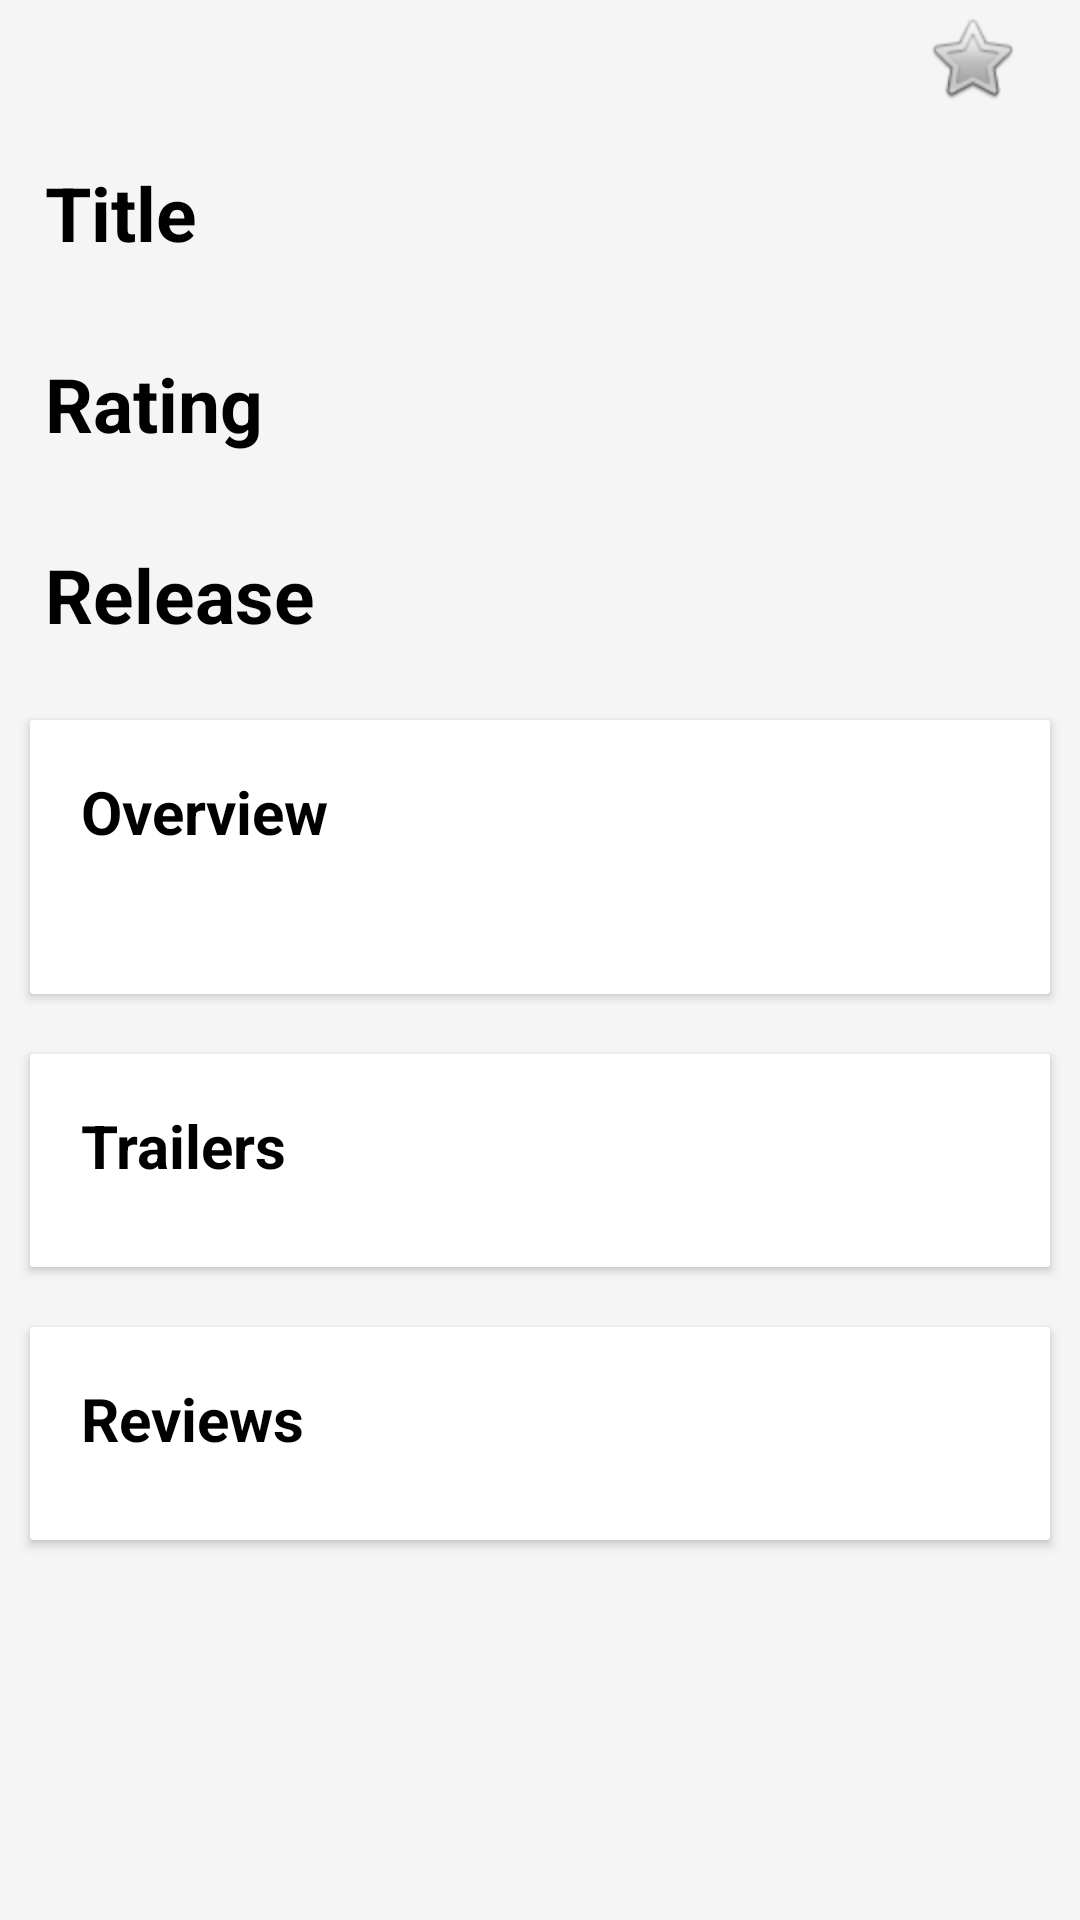

Where icons sit on this 1080px×1920px app screen, as (x1, y1, x2, y2):
star: (933, 20, 1013, 98)
